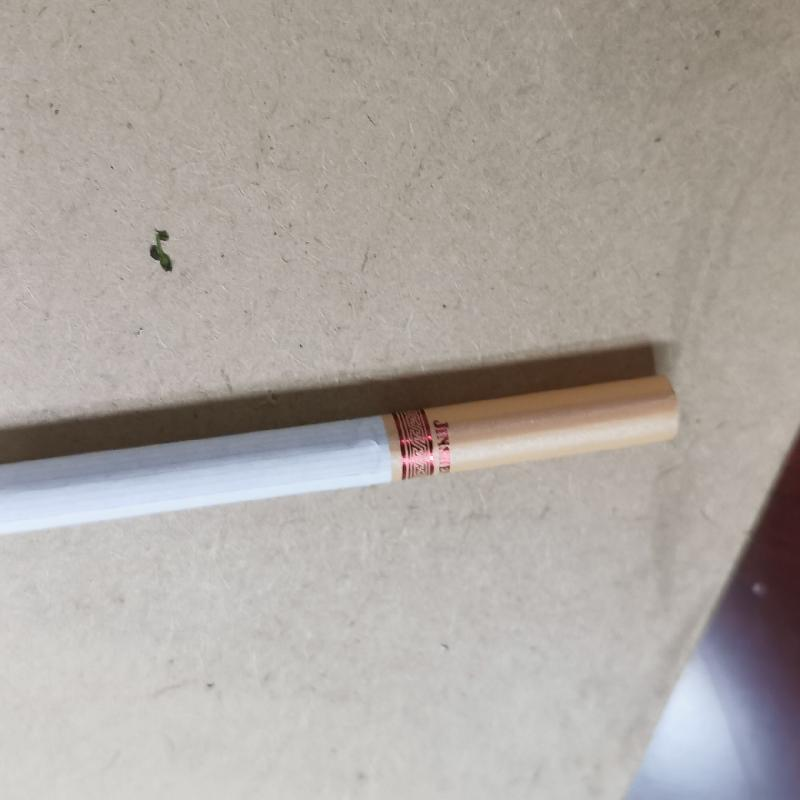cigarette: (4, 374, 686, 538)
